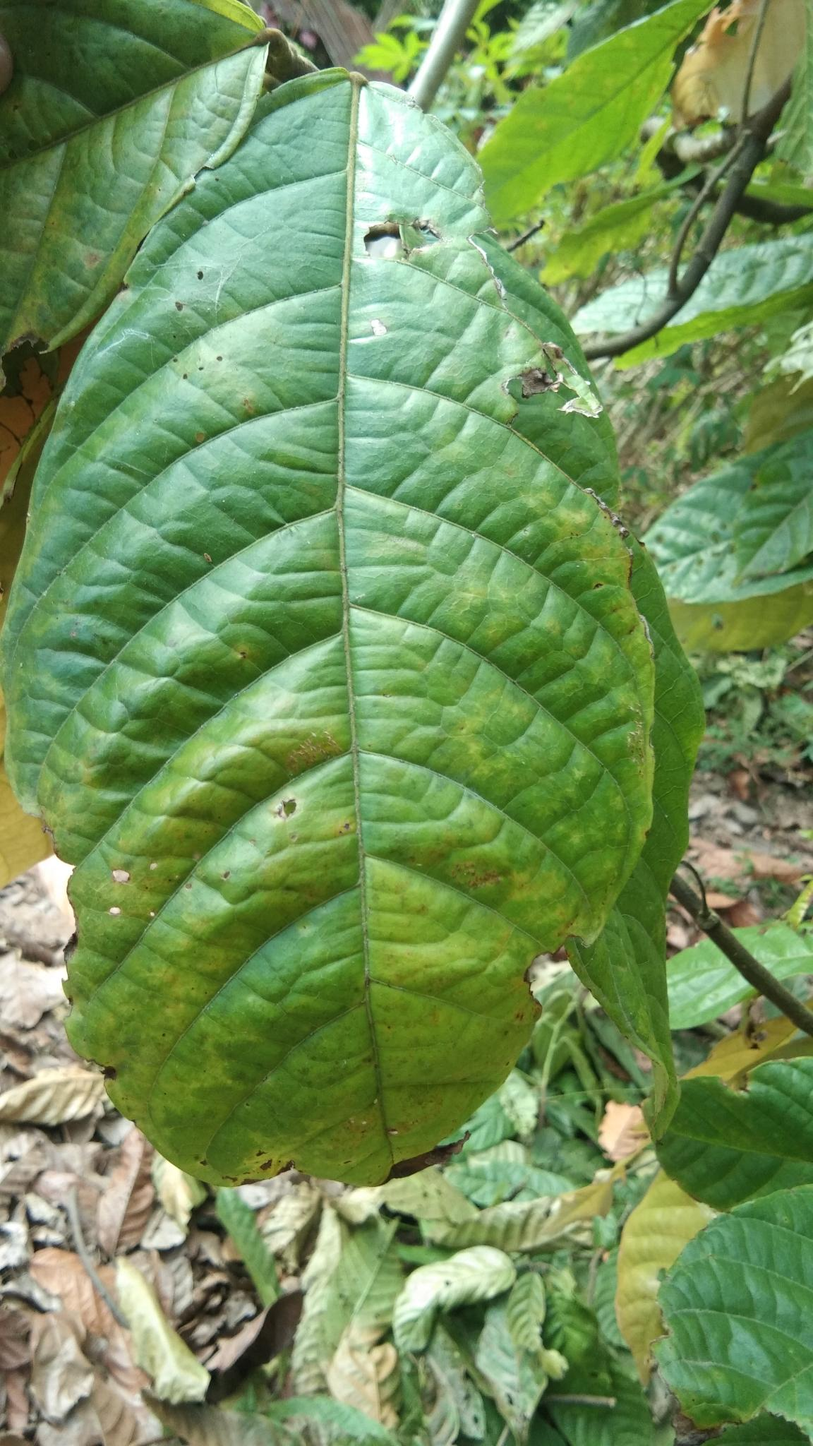Fosforo: (0, 56, 664, 1189)
